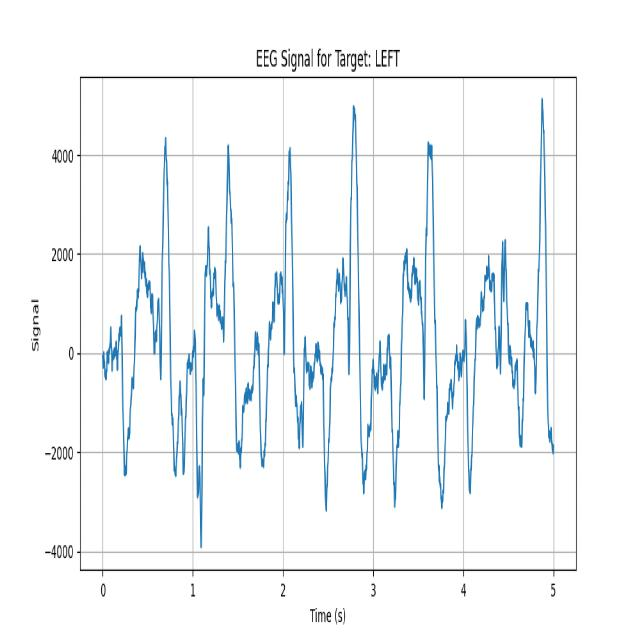LEFT: (183, 122, 259, 551), (379, 125, 454, 553), (315, 82, 380, 553), (118, 128, 184, 546), (258, 117, 318, 553)
